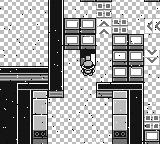main: (80, 61, 95, 75)
no-caminable: (113, 34, 143, 82), (49, 0, 63, 97), (64, 18, 96, 49), (1, 82, 16, 143), (96, 81, 142, 98), (129, 90, 143, 143), (18, 89, 31, 143), (1, 67, 48, 80), (32, 115, 47, 143), (113, 116, 128, 143), (113, 91, 128, 116), (32, 91, 47, 115), (18, 83, 48, 90), (144, 130, 160, 143)
puerta: (80, 49, 96, 66)
salto: (144, 49, 159, 64), (97, 19, 111, 35), (146, 18, 159, 33)
